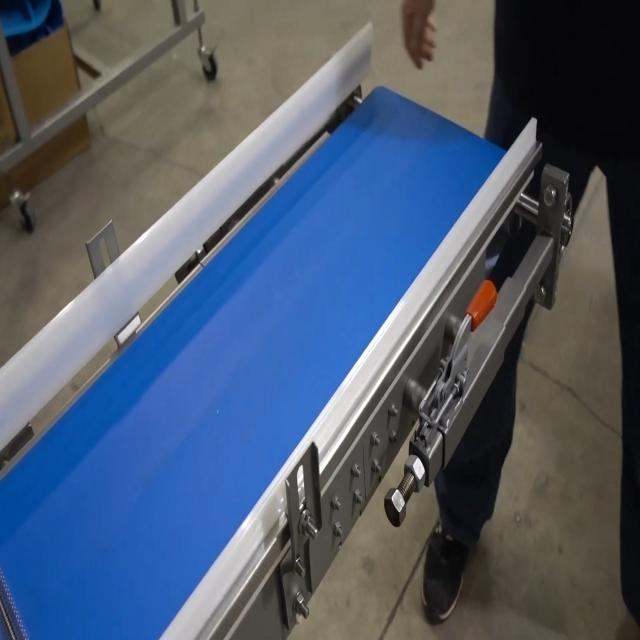Convoyeur: (0, 47, 584, 640)
